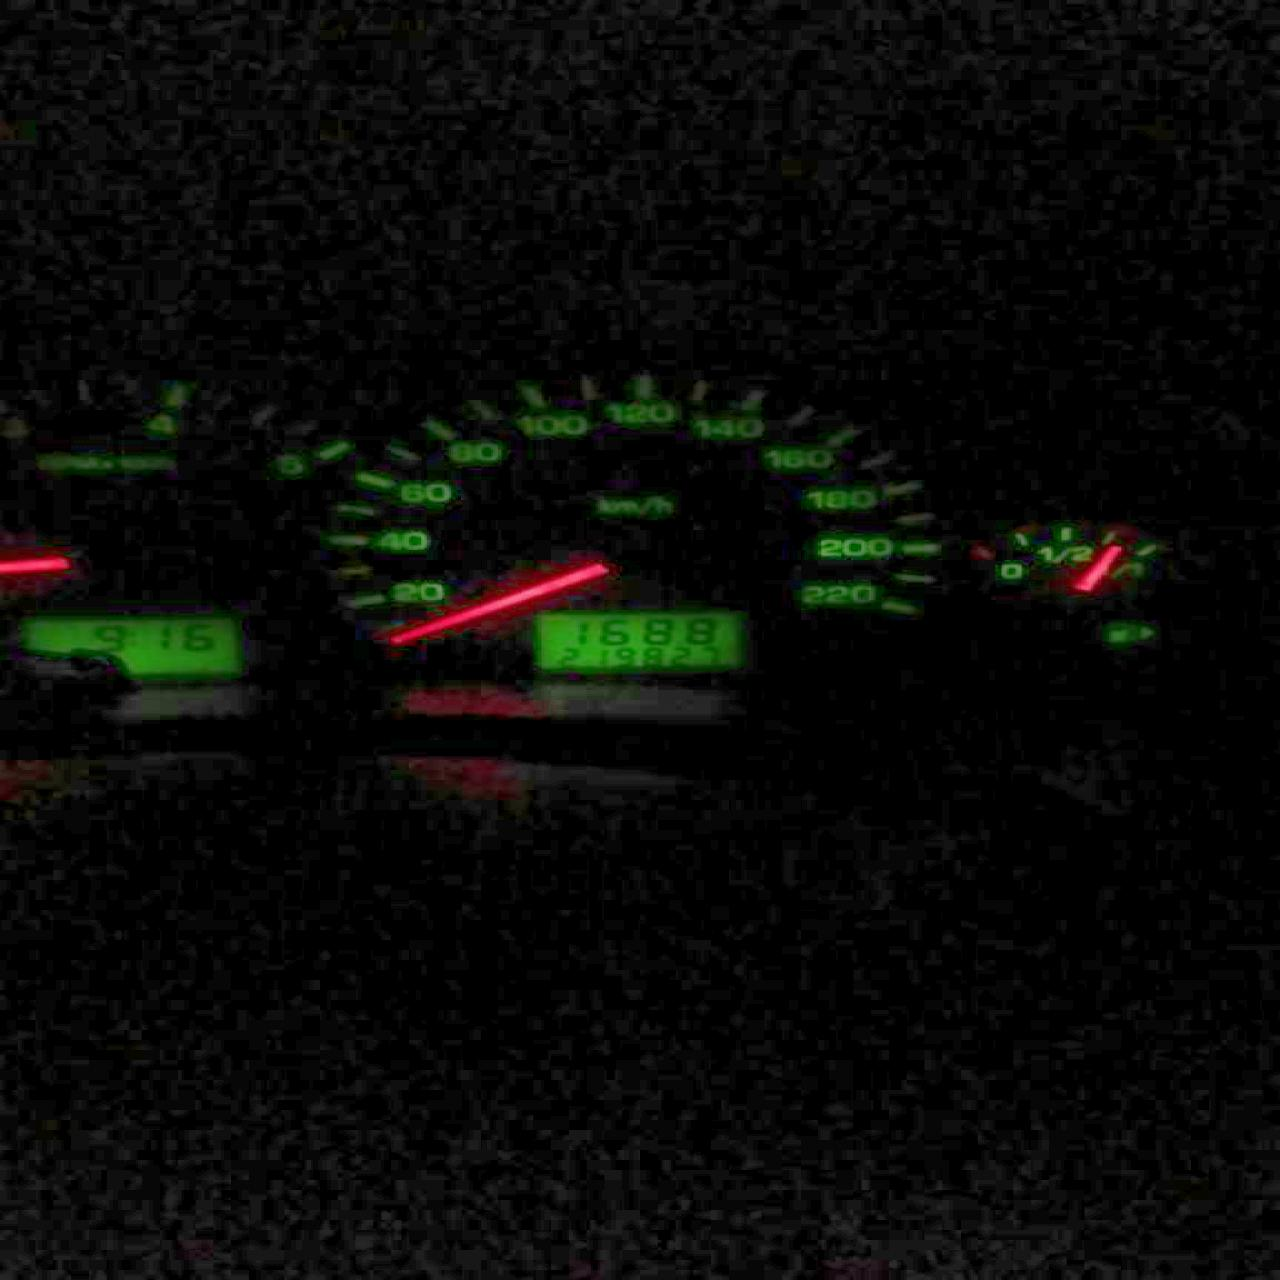-: (672, 639, 685, 645)
1: (571, 615, 588, 644), (595, 646, 608, 666)
2: (669, 645, 693, 666), (556, 646, 578, 666)
6: (598, 617, 629, 646)
7: (697, 646, 722, 665)
8: (685, 617, 715, 644), (642, 617, 670, 644), (640, 646, 662, 665)
9: (611, 646, 635, 665)
odometer: (538, 610, 740, 669)
